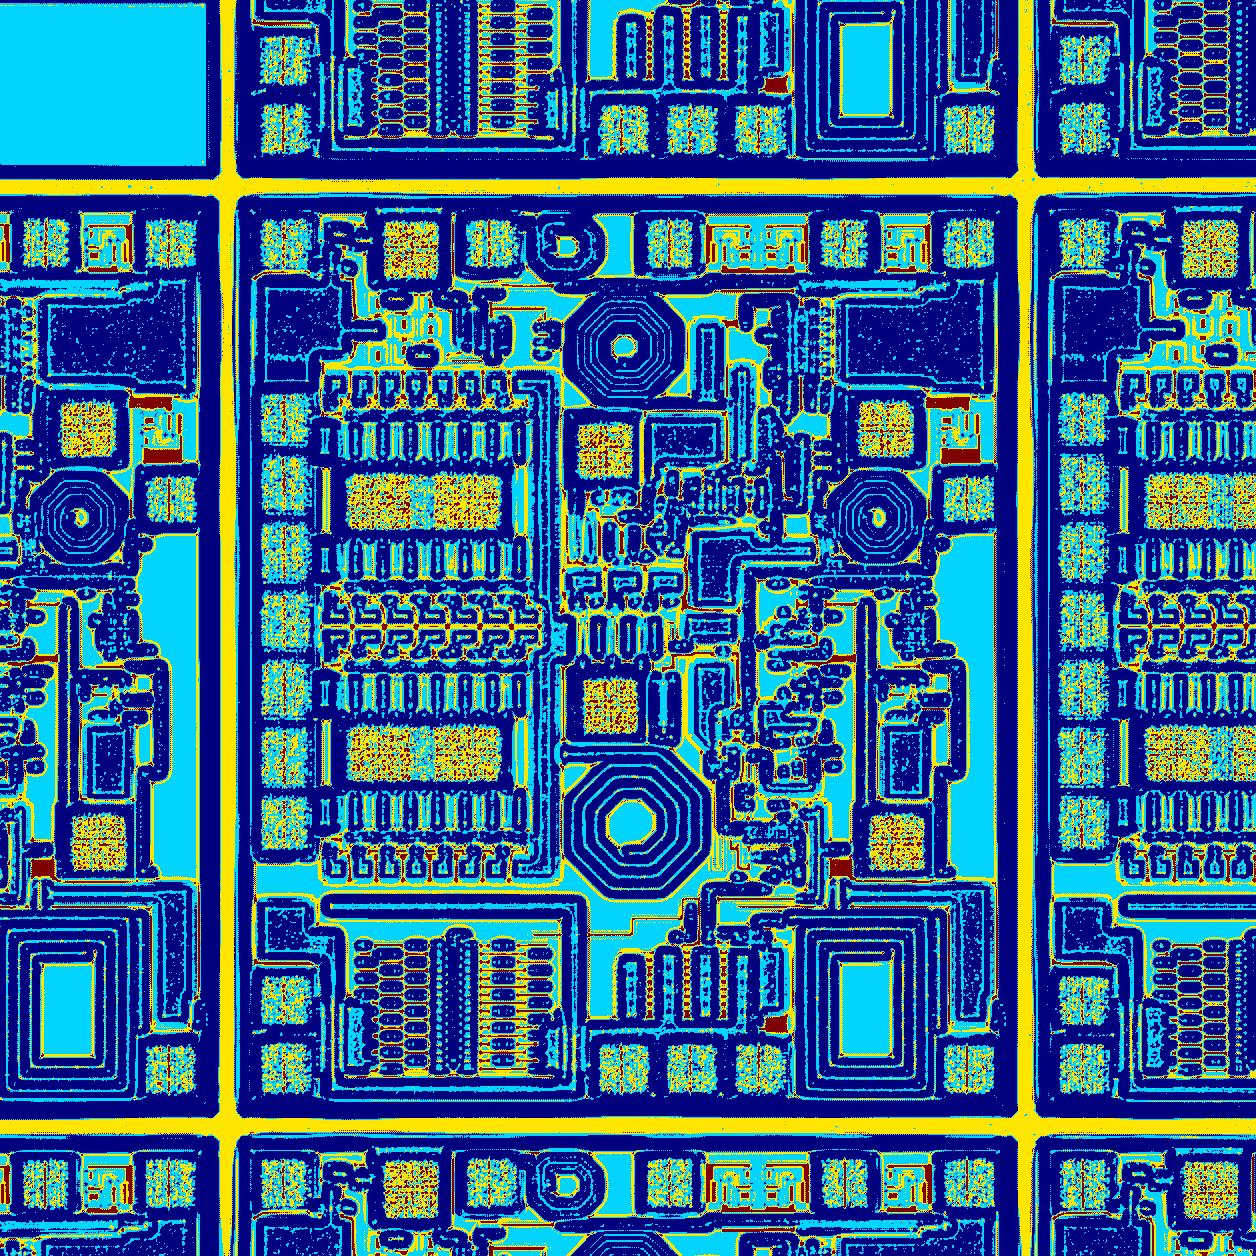Die: (235, 194, 1019, 1118)
Pad 1: (431, 472, 501, 530), (345, 725, 416, 781), (346, 472, 412, 530), (432, 726, 501, 781), (383, 220, 441, 279), (867, 813, 925, 870), (858, 399, 916, 455), (577, 420, 633, 478), (582, 677, 638, 733)
Pad 2: (260, 591, 312, 651), (261, 521, 311, 583), (260, 726, 309, 788), (259, 659, 309, 719), (261, 454, 309, 513), (259, 795, 309, 850), (261, 1042, 312, 1094), (261, 393, 311, 446), (598, 1043, 649, 1093), (735, 1043, 784, 1094), (943, 217, 994, 267), (666, 1043, 717, 1093), (943, 1044, 994, 1093), (262, 975, 311, 1026), (261, 219, 312, 267), (467, 219, 518, 267), (820, 219, 870, 267), (943, 475, 995, 521), (646, 219, 695, 267)
